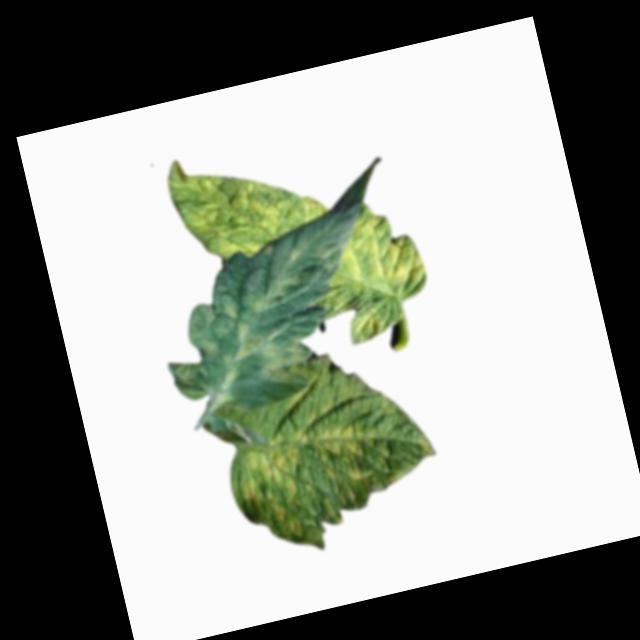Leaf_Mold: (224, 397, 454, 567), (157, 129, 332, 269), (190, 268, 324, 405), (328, 195, 432, 313)
